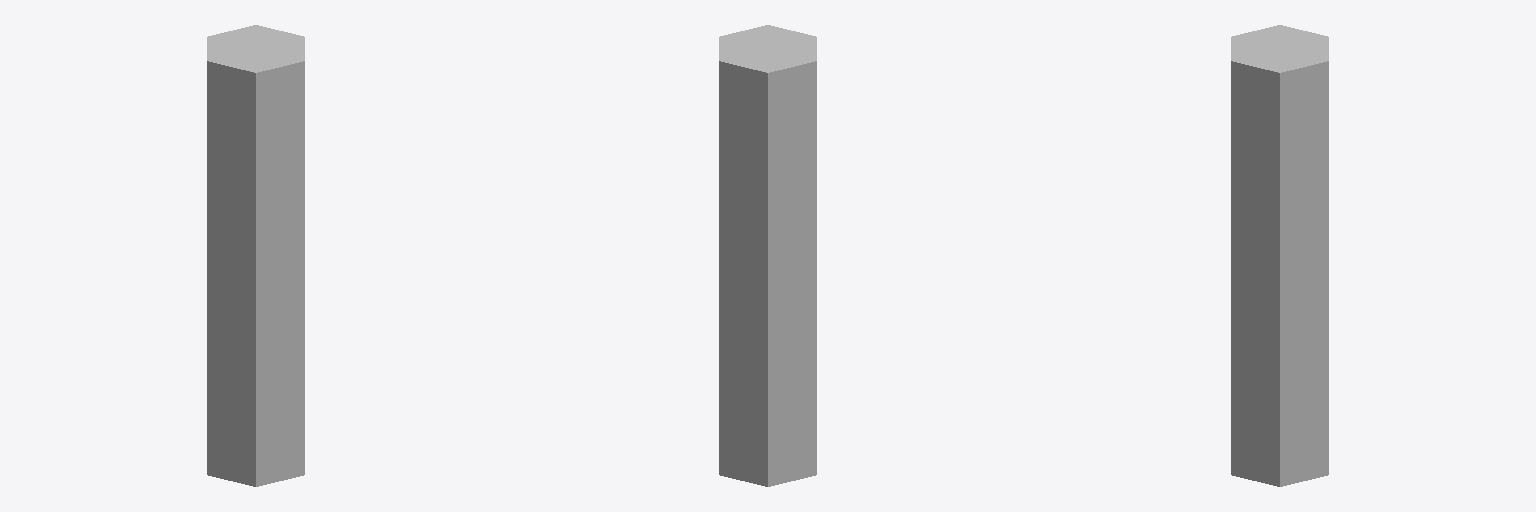
File: PLAG_SimpleBldg_08.obj
3 views of the same model, side by side, from view 1: azimuth 30°, elevation 25°; view 2: azimuth 150°, elevation 25°; view 3: azimuth 270°, elevation 25° (orthographic).
Visible parts, largest first — view 1: PLAG_SimpleBldg_08; view 2: PLAG_SimpleBldg_08; view 3: PLAG_SimpleBldg_08.
Boxes of the visible parts, x1=… form: PLAG_SimpleBldg_08: x1=207, y1=25, x2=304, y2=486; PLAG_SimpleBldg_08: x1=719, y1=25, x2=816, y2=486; PLAG_SimpleBldg_08: x1=1231, y1=25, x2=1328, y2=486.
Size of the model in its own units: 200 by 800 by 173.